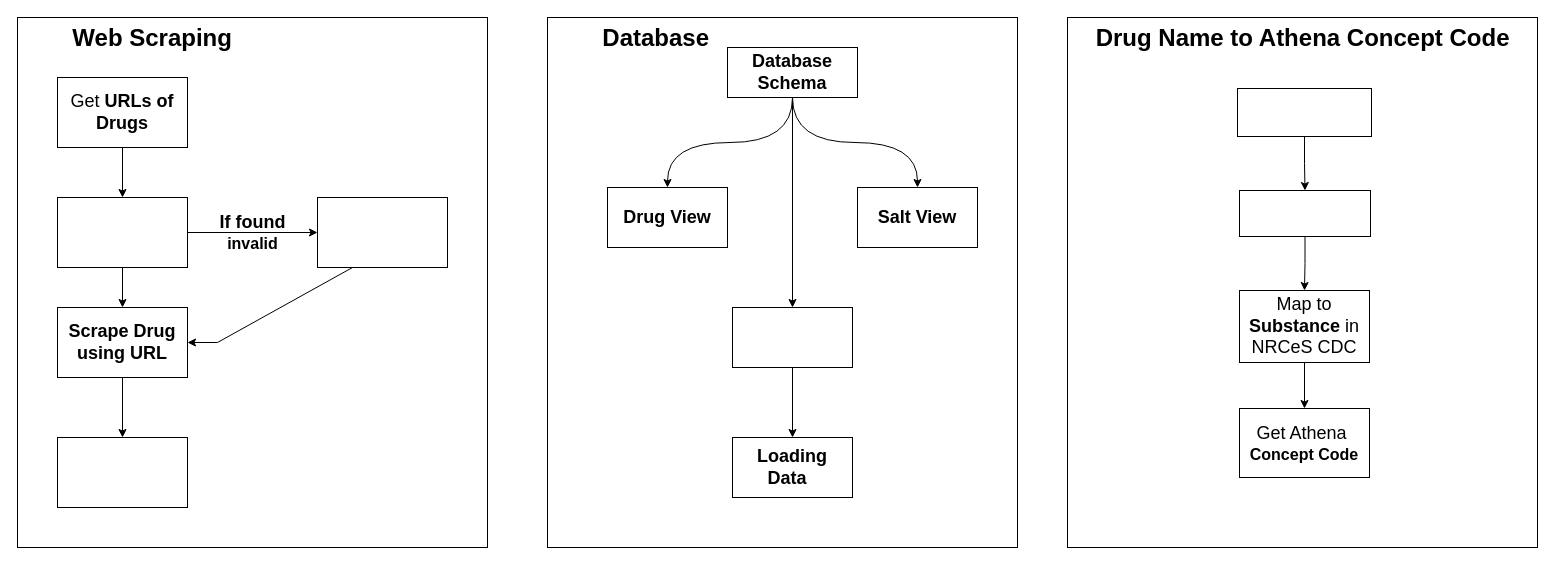
Image size: 1555x565. Some labels were removed from this diagram. Each missing label, with the centre of its shape:
"Correction of URLs using Google API" goes at pixel 382 232.
"Database Creation" goes at pixel 792 337.
"Enter Drug Name" goes at pixel 1304 112.
"Get Active Ingredients" goes at pixel 1304 213.
"Process Data and store in JSON format" goes at pixel 122 472.
"Validate the list of URLs" goes at pixel 122 232.
